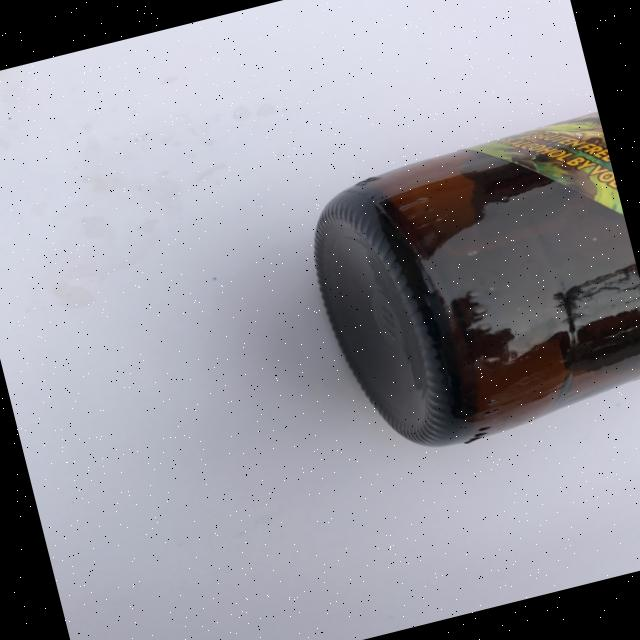glass: (291, 110, 640, 469)
